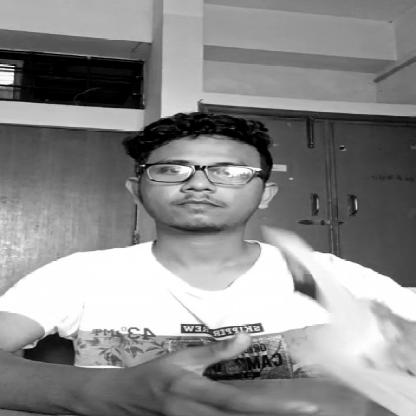Normal: (145, 122, 273, 228)
